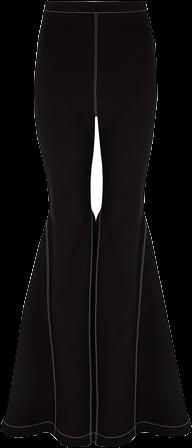Hemline: (0, 426, 91, 447), (91, 428, 191, 447)
Pantleg: (91, 0, 190, 447), (1, 0, 96, 447)
Waistline: (131, 224, 151, 436), (41, 223, 57, 441), (43, 7, 148, 17), (44, 0, 145, 6)
